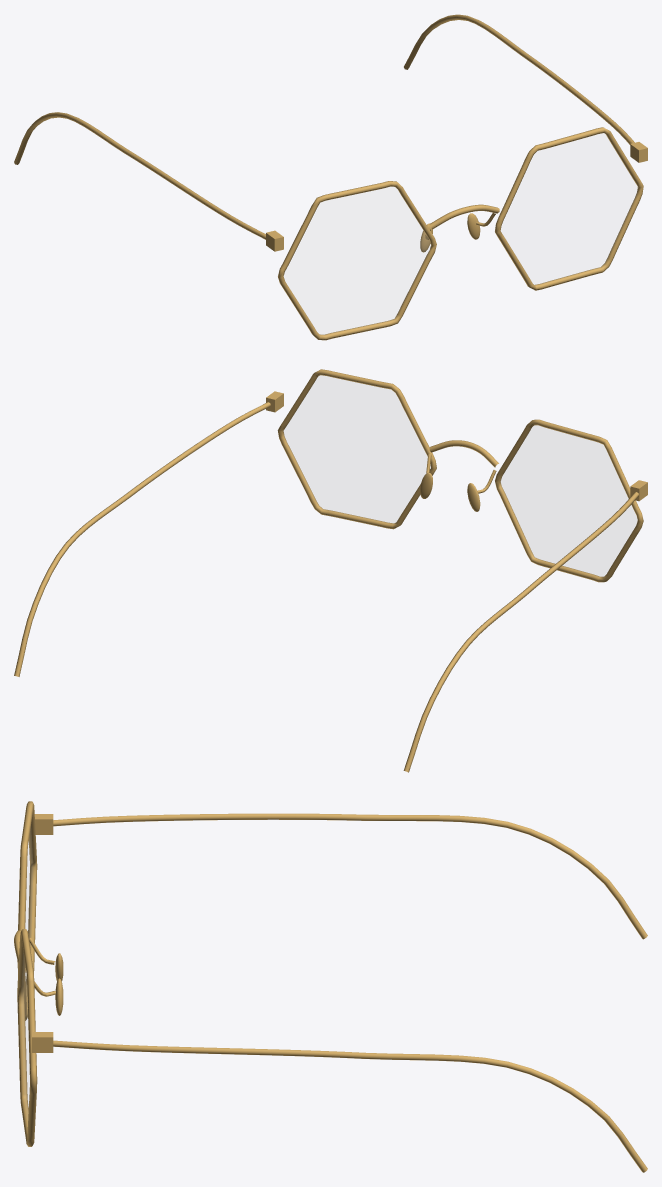
File: NY-M06_Flint_Gold.glb
The picture shows the model from 3 angles, top to bottom: view 1: azimuth 30°, elevation 25°; view 2: azimuth 150°, elevation 25°; view 3: azimuth 270°, elevation 25°; orthographic projection. The views are drawn at different scales.
Parts seen in each view (by area): view 1: Flint_Gold_Lenses, Flint_Gold_Metal; view 2: Flint_Gold_Lenses, Flint_Gold_Metal; view 3: Flint_Gold_Metal, Flint_Gold_Lenses.
Boxes of the visible parts, <box> form: Flint_Gold_Lenses: <box>284,134,637,334</box>; Flint_Gold_Metal: <box>14,14,647,340</box>; Flint_Gold_Lenses: <box>283,376,636,576</box>; Flint_Gold_Metal: <box>14,369,647,772</box>; Flint_Gold_Metal: <box>14,801,647,1172</box>; Flint_Gold_Lenses: <box>22,831,32,1118</box>.
Size of the model in its own units: 0.1337 by 0.0457 by 0.1479.
